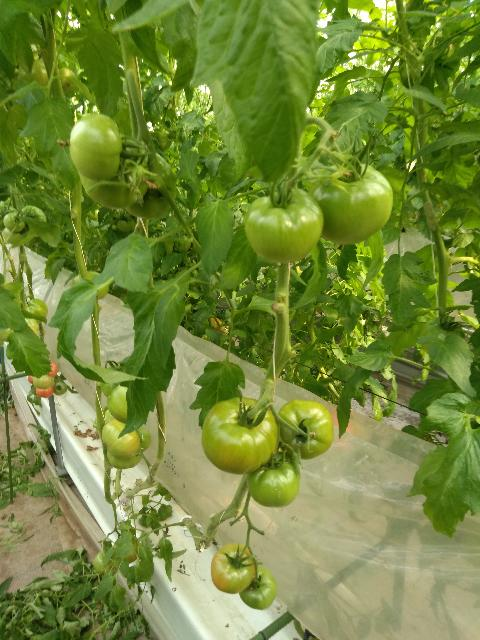b_green: (308, 160, 393, 246), (201, 397, 278, 475), (245, 187, 324, 263), (77, 134, 150, 209), (124, 148, 178, 219), (69, 112, 122, 182), (277, 400, 335, 461), (247, 451, 300, 507), (238, 566, 278, 611), (102, 417, 139, 459), (107, 445, 143, 469), (107, 385, 128, 424), (25, 298, 48, 325), (19, 206, 47, 223), (133, 426, 151, 452), (3, 212, 25, 232), (33, 374, 55, 389), (53, 382, 68, 396)
b_half_ripened: (211, 542, 256, 594), (35, 386, 54, 398), (47, 361, 58, 380)
